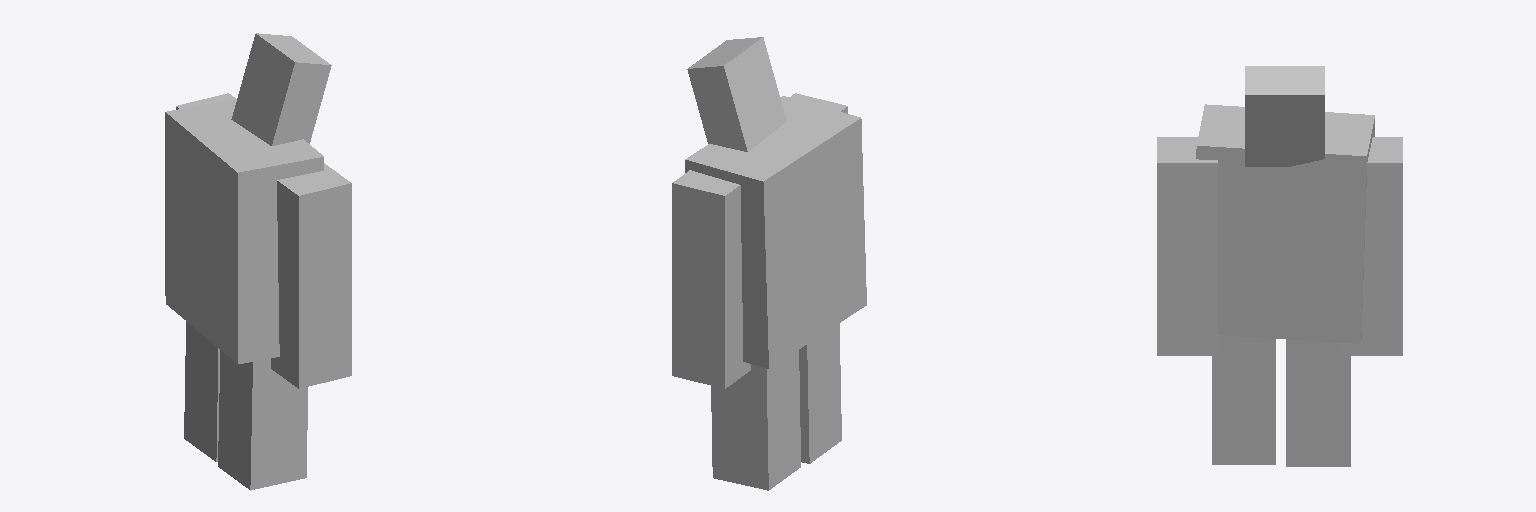
File: walk_000030.obj
3 views of the same model, side by side, from view 1: azimuth 30°, elevation 25°; view 2: azimuth 150°, elevation 25°; view 3: azimuth 270°, elevation 25° (orthographic).
Parts seen in each view (by area): view 1: Cube, leg.002_Cube.006, leg.001_Cube.007, Cube.001_Cube.003, leg_Cube.001; view 2: Cube, leg.003_Cube.002, leg_Cube.001, Cube.001_Cube.003, leg.001_Cube.007; view 3: Cube, leg.002_Cube.006, leg.003_Cube.002, leg.001_Cube.007, leg_Cube.001, Cube.001_Cube.003, Plane.002.
Part boxes in pixels (left/top/right/bottom): Cube: left=165, top=99, right=323, bottom=363; leg.002_Cube.006: left=271, top=163, right=351, bottom=388; leg.001_Cube.007: left=218, top=350, right=307, bottom=490; Cube.001_Cube.003: left=231, top=33, right=331, bottom=145; leg_Cube.001: left=184, top=321, right=219, bottom=461; Cube: left=685, top=96, right=866, bottom=368; leg.003_Cube.002: left=672, top=170, right=750, bottom=388; leg_Cube.001: left=711, top=350, right=800, bottom=490; Cube.001_Cube.003: left=687, top=37, right=786, bottom=151; leg.001_Cube.007: left=799, top=323, right=841, bottom=463; Cube: left=1196, top=104, right=1374, bottom=343; leg.002_Cube.006: left=1157, top=137, right=1217, bottom=355; leg.003_Cube.002: left=1342, top=137, right=1402, bottom=355; leg.001_Cube.007: left=1212, top=335, right=1275, bottom=464; leg_Cube.001: left=1286, top=339, right=1350, bottom=466; Cube.001_Cube.003: left=1245, top=66, right=1324, bottom=166; Plane.002: left=1260, top=136, right=1310, bottom=159.
Bounding box in the file's own units: 1.9 × 6.25 × 3.47.